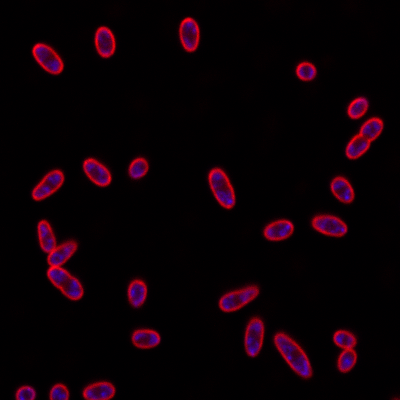MP265: (273, 332, 312, 380), (346, 118, 384, 160), (46, 266, 84, 301), (206, 167, 236, 210), (31, 43, 64, 76), (31, 170, 65, 201), (243, 317, 264, 359), (178, 16, 201, 53), (311, 214, 348, 237), (82, 158, 111, 187), (93, 25, 116, 60), (263, 219, 295, 241), (330, 176, 355, 203), (37, 220, 57, 253), (131, 328, 161, 349), (82, 381, 115, 400), (334, 349, 358, 374), (333, 330, 357, 349), (296, 62, 316, 82)
Oblique: (218, 286, 259, 313), (47, 239, 77, 268), (128, 280, 147, 309), (347, 96, 369, 118), (129, 157, 148, 180)
